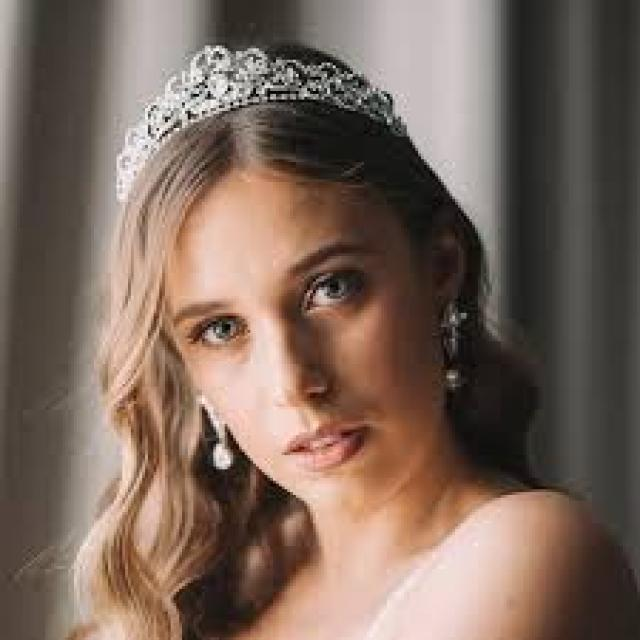Earring: (189, 388, 246, 486), (435, 311, 489, 396)
